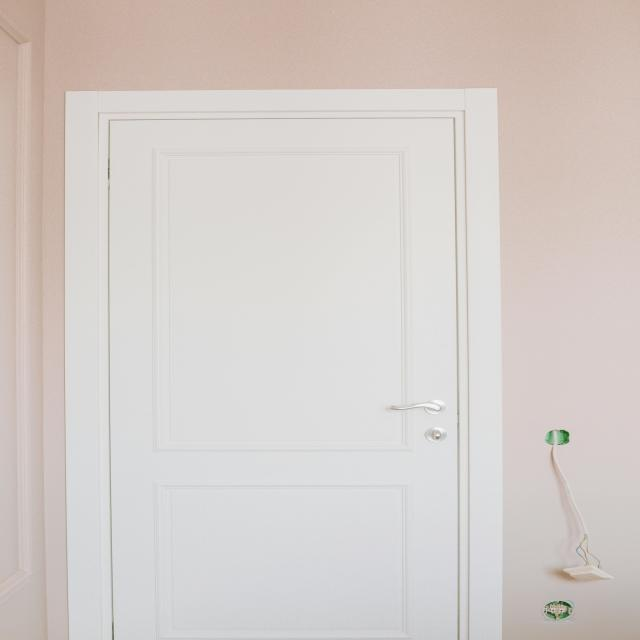door-handle: (392, 400, 446, 415)
